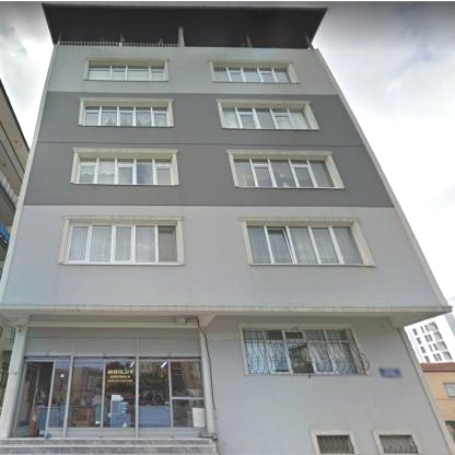door: (12, 365, 39, 437)
